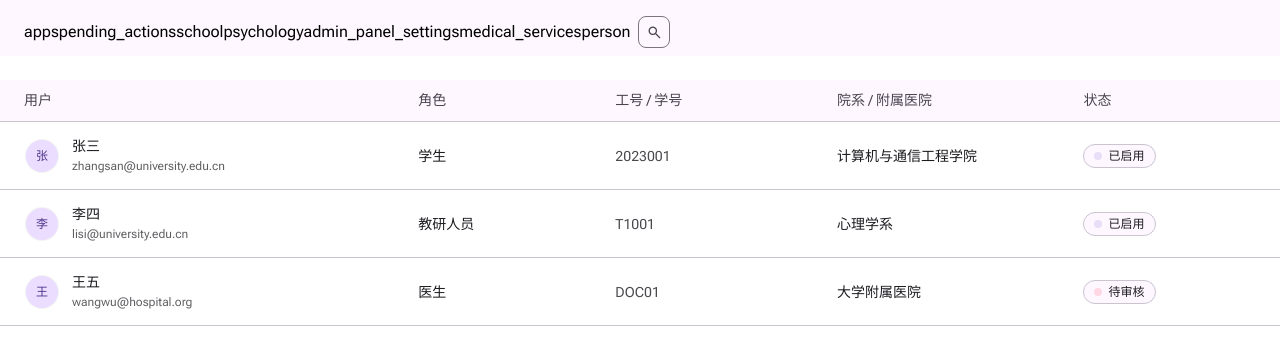
Test: UserManagementView Component › filters by department or hospital name
Click the button named "展开搜索" at (654, 32), box [638, 16, 670, 48]
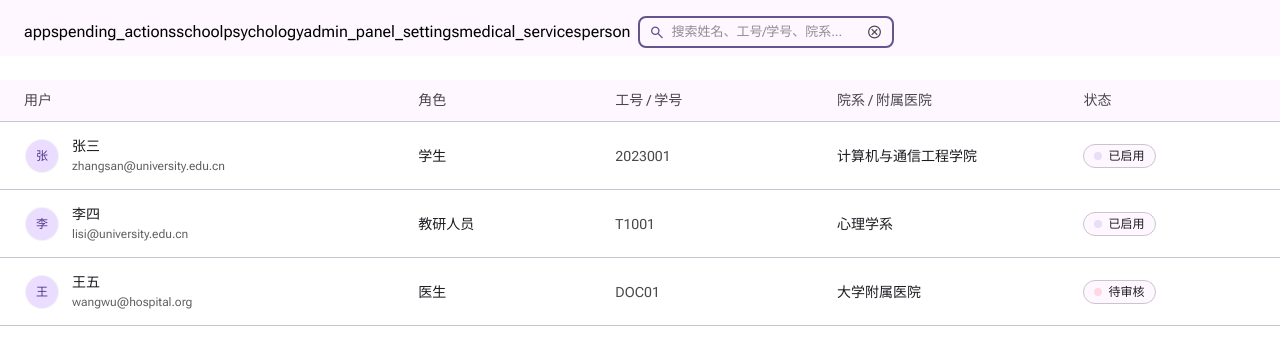
Type "附属医院" into the field with placeholder "搜索姓名、工号/学号、院系..." at (765, 32), box [672, 22, 858, 42]
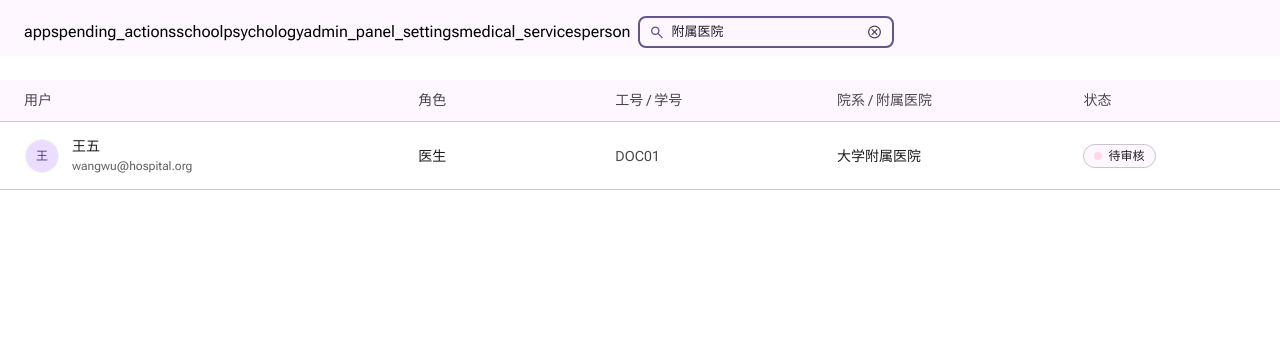
Check: the text "王五" is shown, box [72, 138, 100, 154]
Check: the text "张三" is gone
Check: the text "李四" is gone
